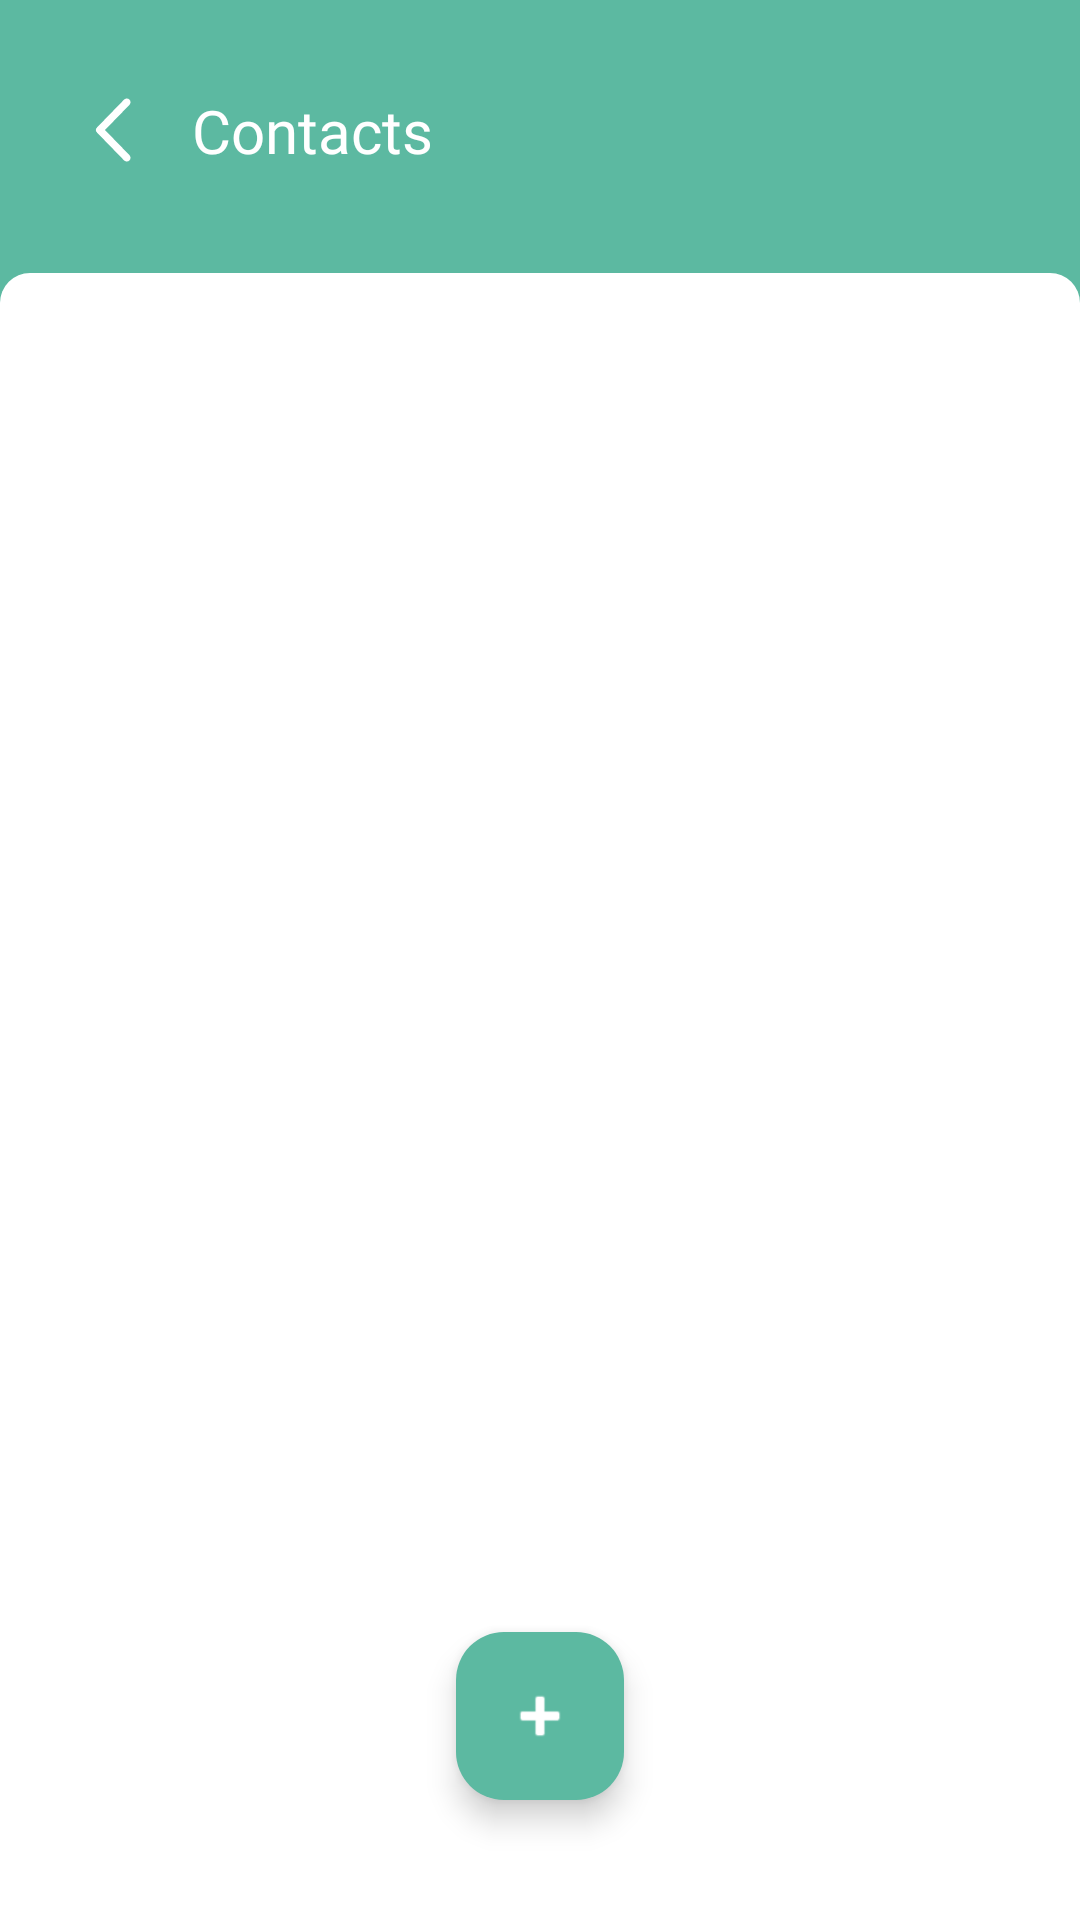

Named icons in this screenshot (1080*1920) and their bounding boxes, (x1, y1, x2, y2):
Add Contact: (456, 1632, 624, 1800)
